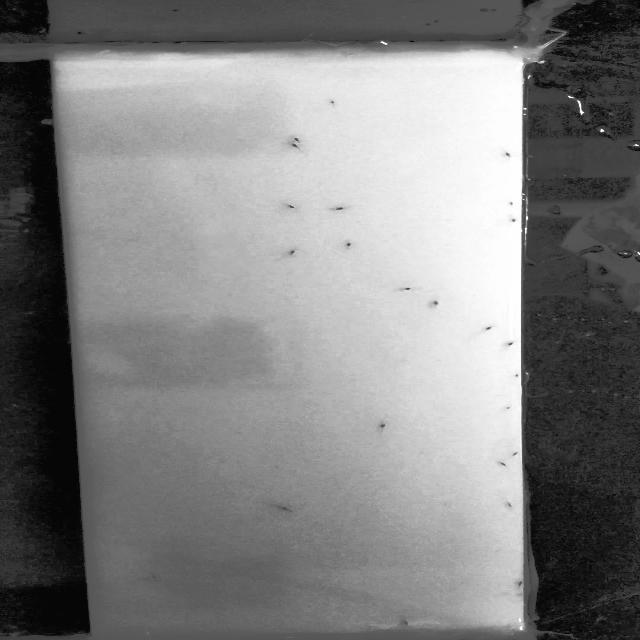shrimp: (323, 201, 359, 222), (147, 572, 184, 586), (496, 496, 526, 513), (338, 236, 364, 252), (399, 617, 422, 632), (270, 500, 294, 514), (399, 284, 425, 296), (286, 198, 305, 214), (281, 142, 313, 151), (491, 458, 511, 472), (508, 371, 525, 387), (512, 448, 528, 465), (286, 246, 310, 256), (425, 297, 445, 309), (480, 322, 497, 335), (502, 338, 519, 348), (501, 150, 516, 161), (290, 132, 304, 143), (504, 406, 518, 415), (329, 99, 341, 108), (373, 421, 387, 427)
